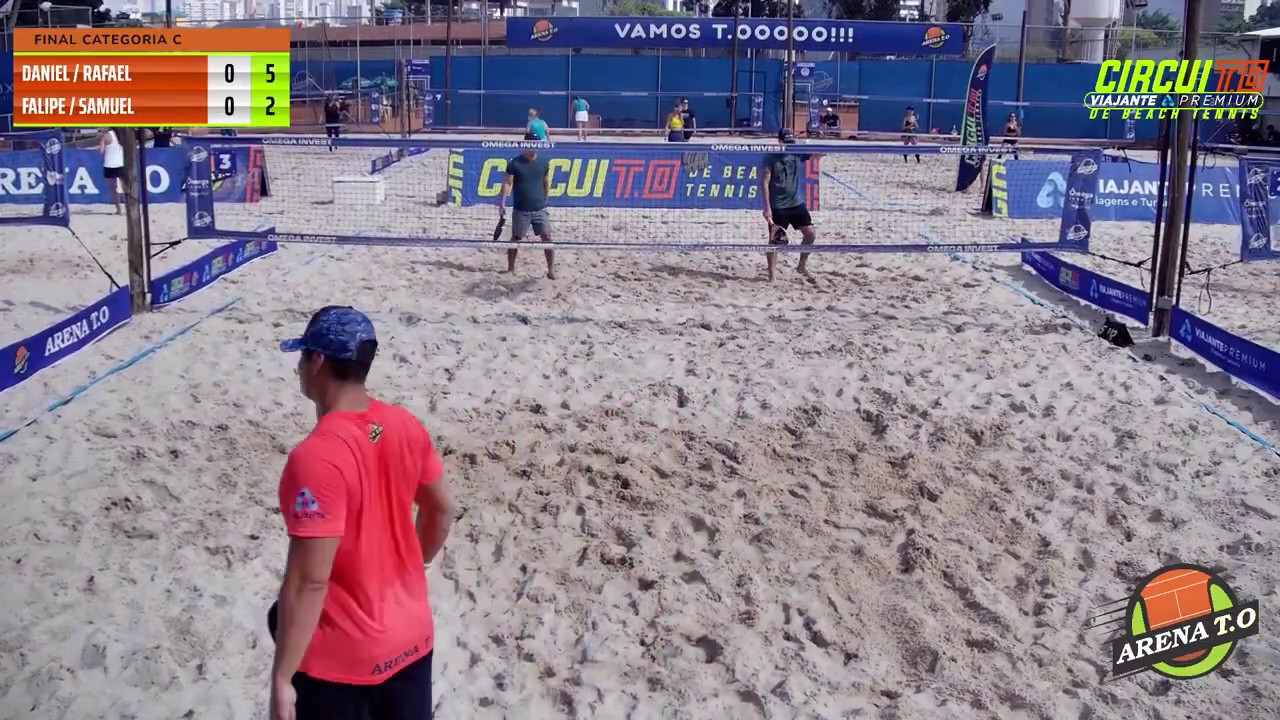court_line: (618, 0, 792, 451), (468, 0, 586, 318), (551, 0, 685, 266)
